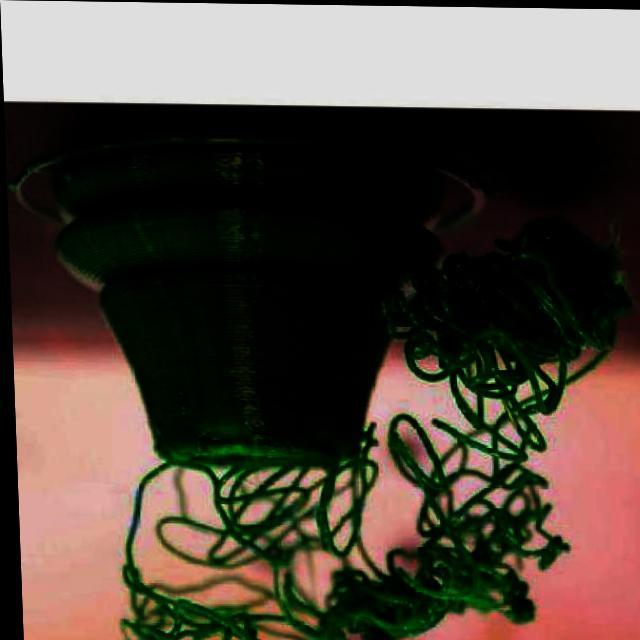spaghetti: (104, 411, 577, 640), (361, 203, 640, 414)
